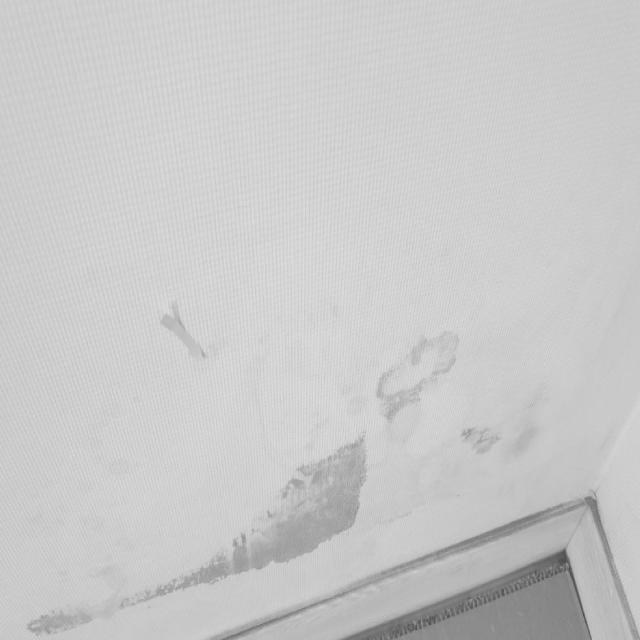stain marks: (27, 428, 365, 631), (373, 317, 545, 457)
